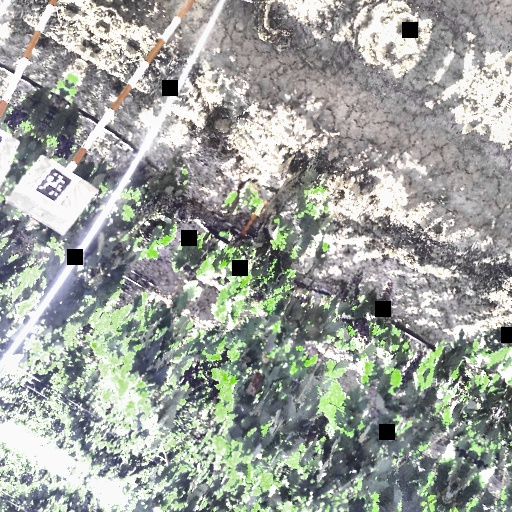QR: (37, 166, 70, 202)
